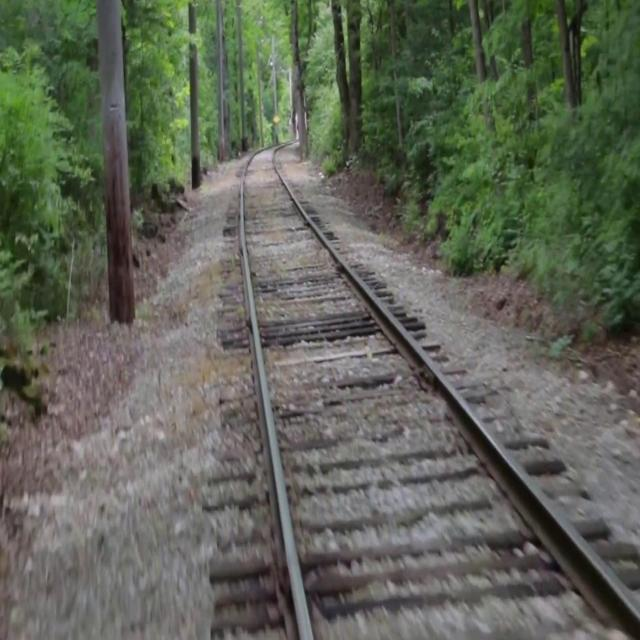rail-track: (242, 139, 640, 639)
